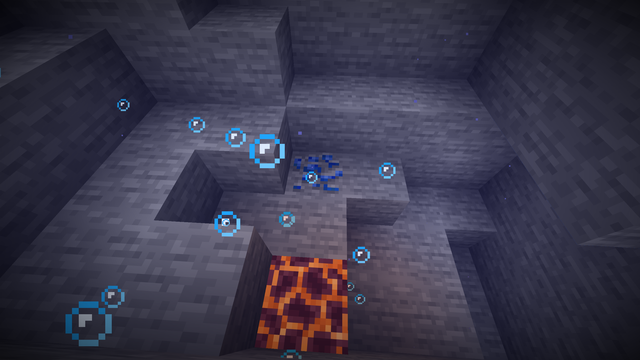lapis: (286, 151, 345, 196)
